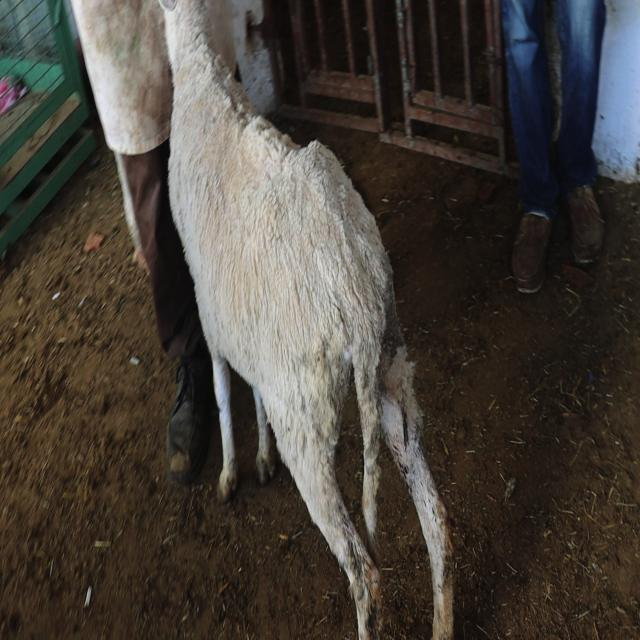Score_1: (160, 0, 454, 639)
